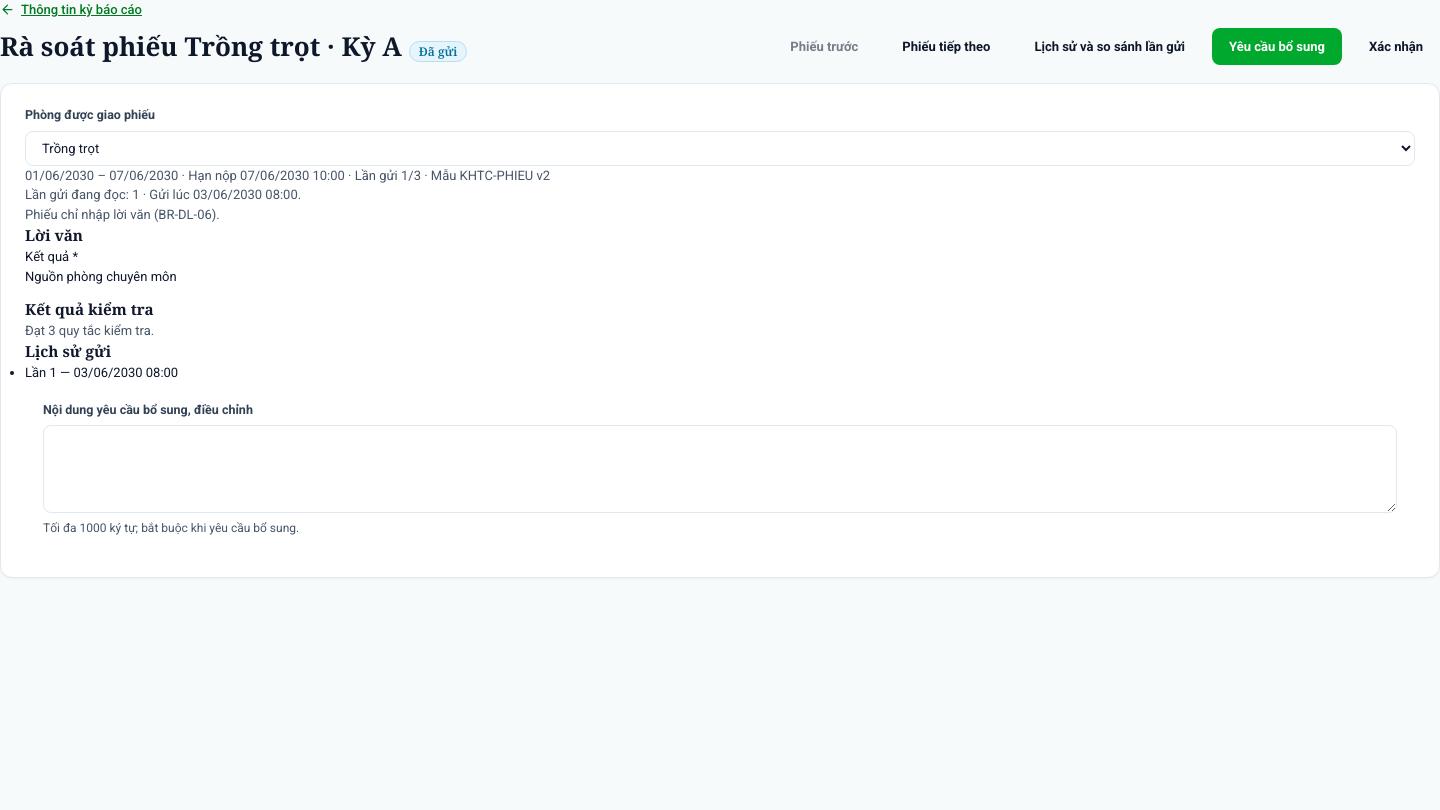
Scenario: review241 — phản hồi và vòng đời tài nguyên › kết quả network giữ nguyên target, ghi chú và khóa khi thử lại
The width and height of the screenshot is (1440, 810).
Type "Ghi chú của lần gửi 1" into the text box. click: [720, 469]
box: [43,425,1397,513]
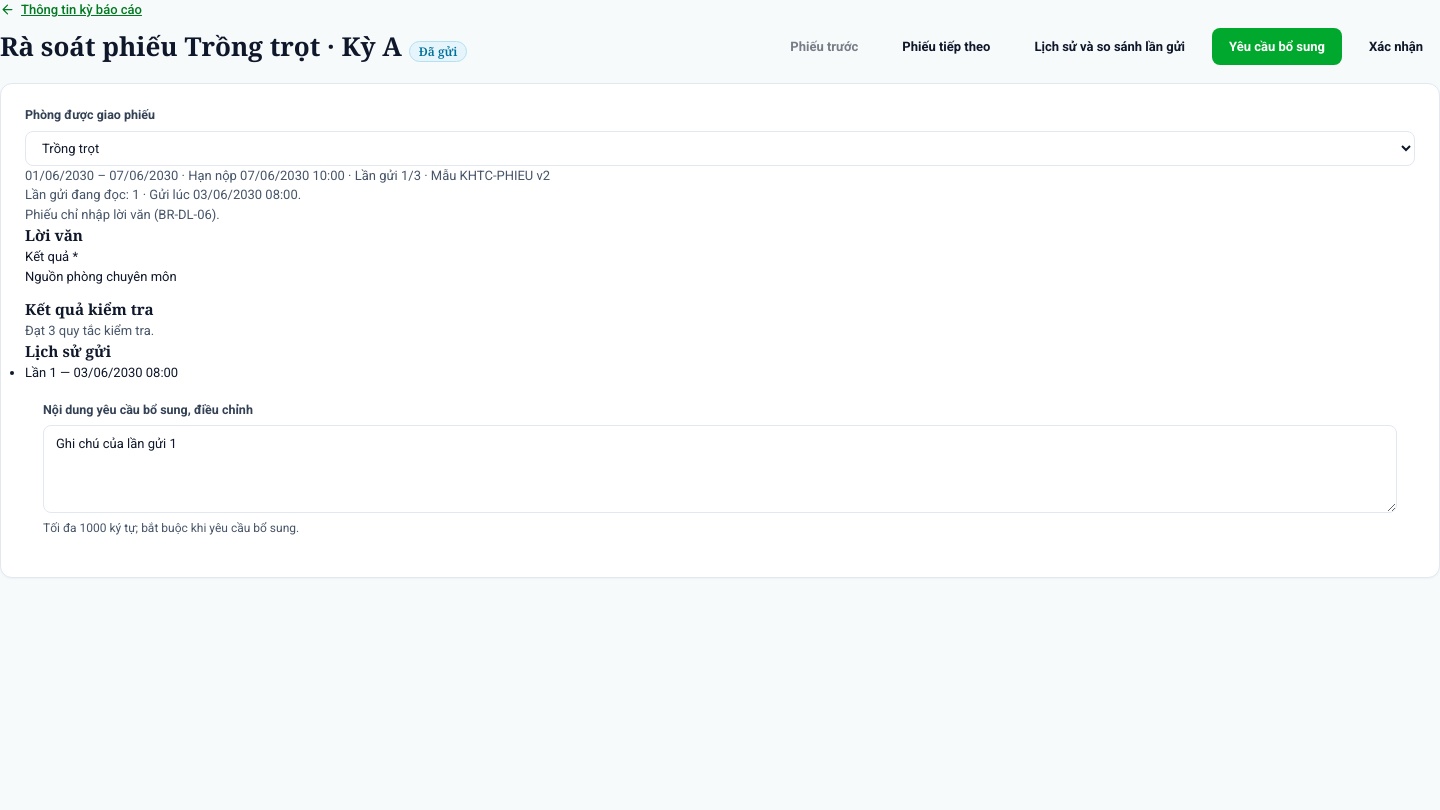
Click the button "Xác nhận". click: [1396, 46]
box: [1352,28,1439,65]
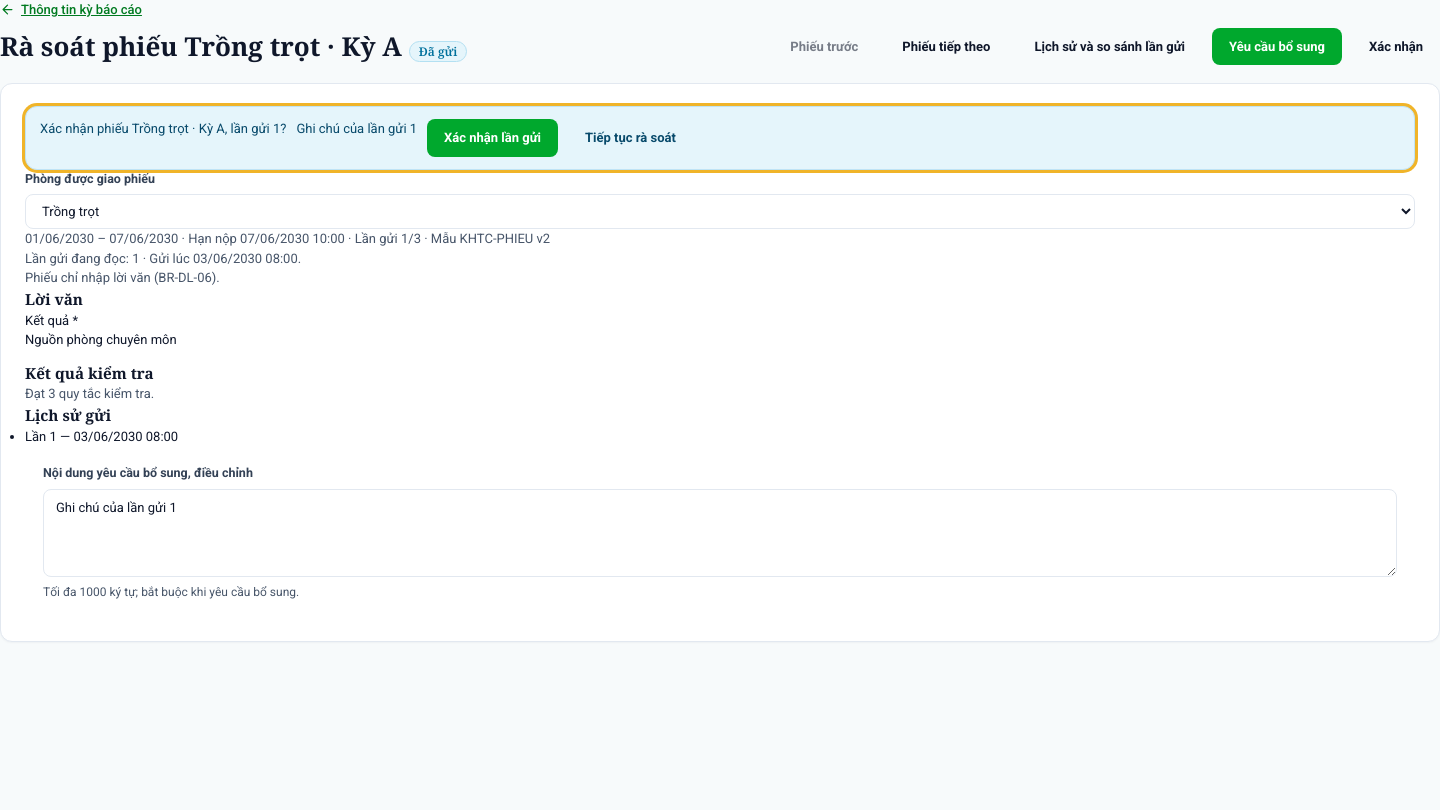
Click the button "Xác nhận lần gửi". click: [493, 138]
box: [427,119,558,156]
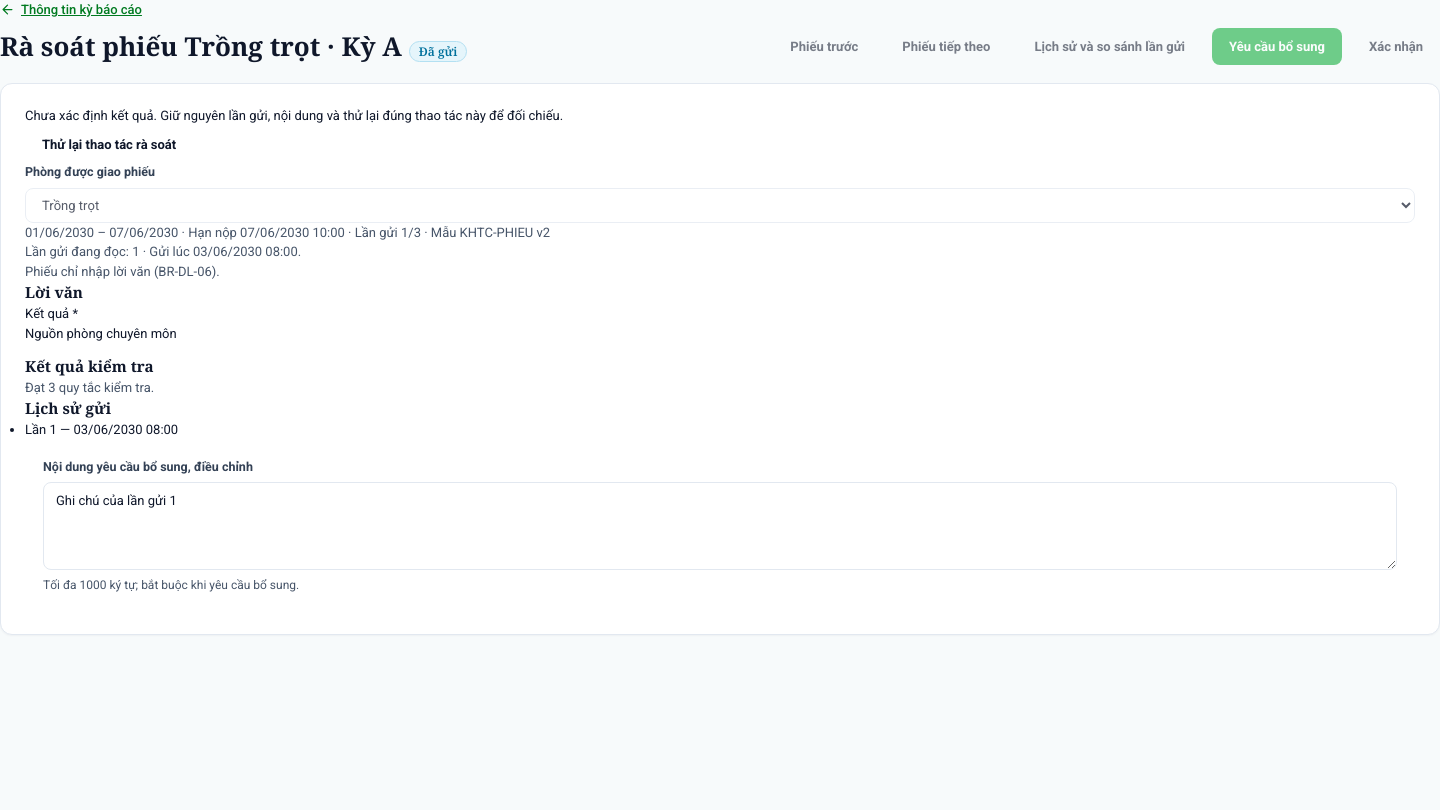
Result: the text box is disabled at [43,482,1397,570]
Result: the button "Phiếu tiếp theo" is disabled at [885,28,1007,65]
Result: the dropdown labelled "Phòng được giao phiếu" is disabled at [25,188,1415,223]
Click the button "Thử lại thao tác rà soát". click: [109, 144]
box: [25,126,193,163]
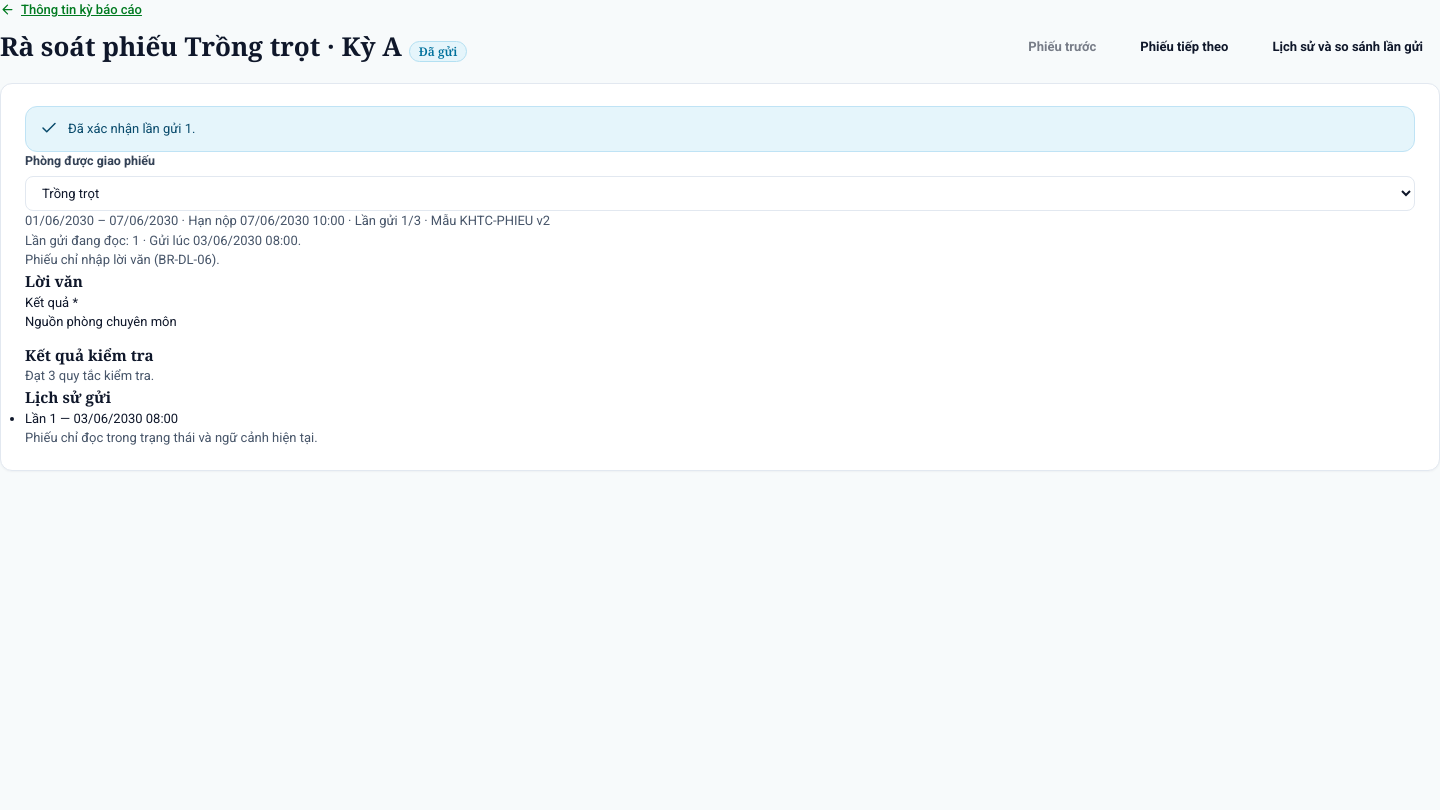
Result: the text "Đã xác nhận lần gửi 1." is shown at [68,119,196,138]
